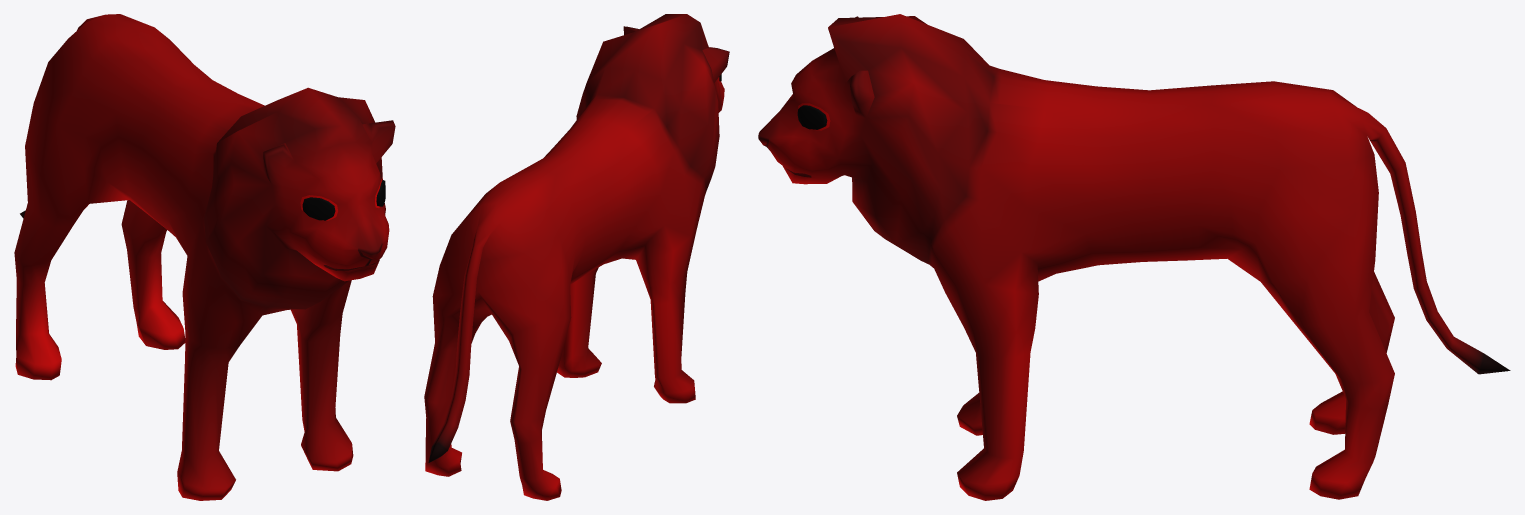
File: Lion_model.fbx
3 renders of one model, left to right at view 1: azimuth 30°, elevation 25°; view 2: azimuth 150°, elevation 25°; view 3: azimuth 270°, elevation 25°, orthographic. The views are drawn at different scales.
Parts seen in each view (by area): view 1: alt604; view 2: alt604; view 3: alt604.
Part boxes in pixels (x1,y1,x2,y2): alt604: [14, 14, 395, 500]; alt604: [424, 14, 729, 500]; alt604: [758, 14, 1510, 500].
Size of the model in its own units: 1.73 by 4.01 by 6.18.
